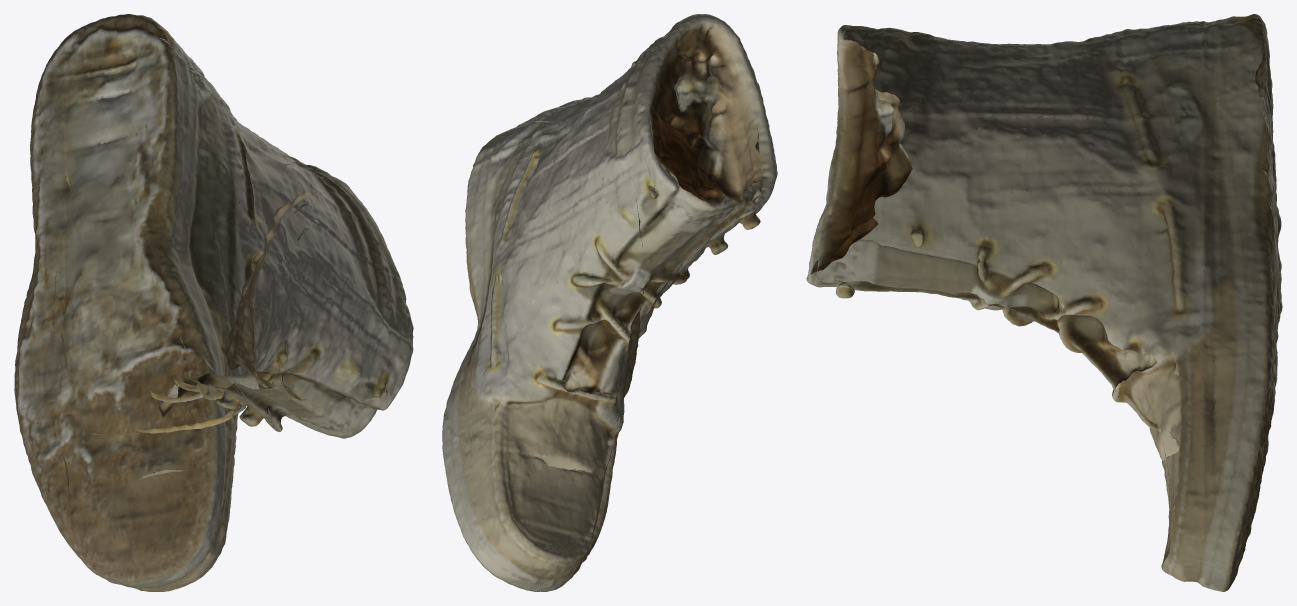
File: shoe1.glb
3 views of the same model, side by side, from view 1: azimuth 30°, elevation 25°; view 2: azimuth 150°, elevation 25°; view 3: azimuth 270°, elevation 25° (orthographic). The views are drawn at different scales.
Size of the model in its own units: 0.3657 by 1 by 0.7873.
